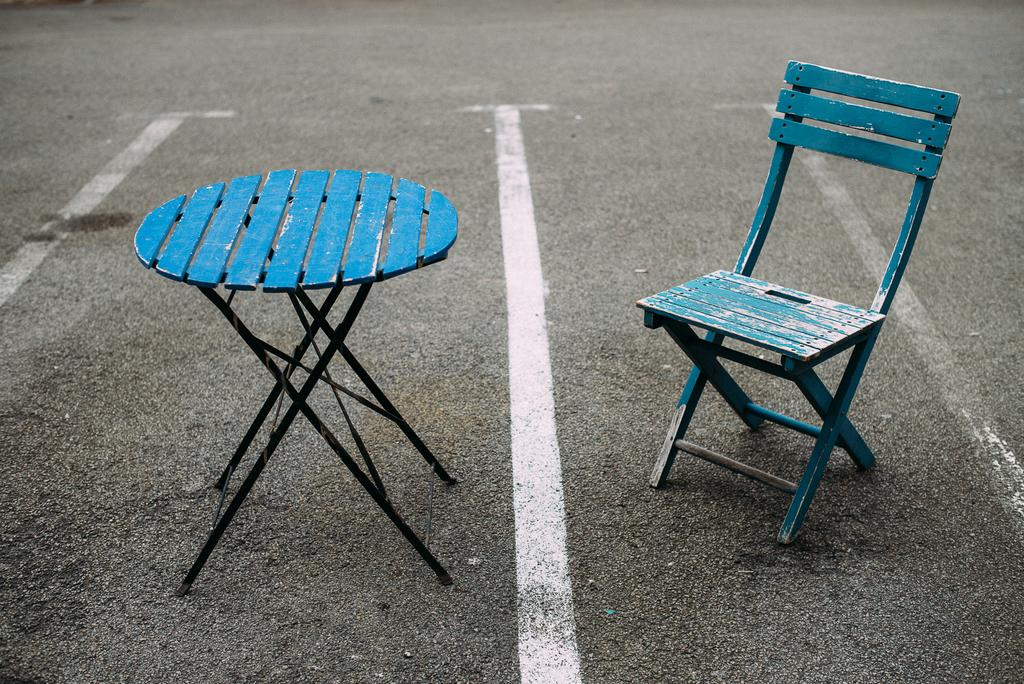Chair: (623, 13, 977, 534)
